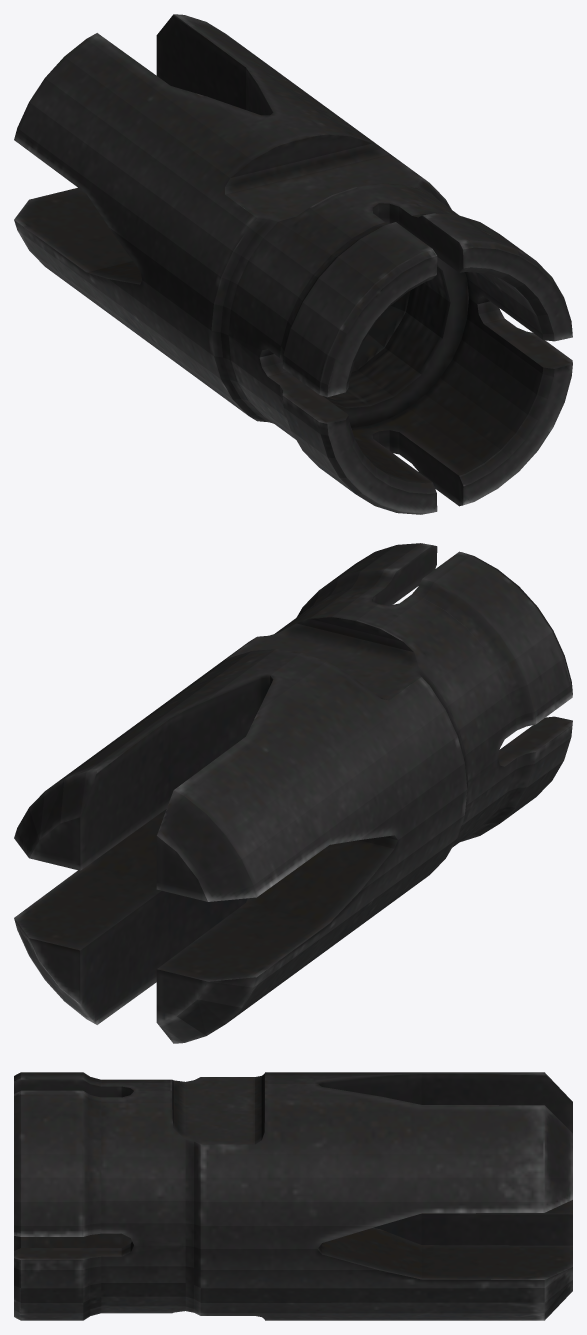
The picture shows the model from 3 angles, top to bottom: view 1: azimuth 30°, elevation 25°; view 2: azimuth 150°, elevation 25°; view 3: azimuth 270°, elevation 25°; orthographic projection. The views are drawn at different scales.
Parts seen in each view (by area): view 1: TW_622f0ee47762f55aaa68ac87_PZ_Import; view 2: TW_622f0ee47762f55aaa68ac87_PZ_Import; view 3: TW_622f0ee47762f55aaa68ac87_PZ_Import.
Boxes of the visible parts, x1,y1,x2,y2 form: TW_622f0ee47762f55aaa68ac87_PZ_Import: [14, 14, 572, 514]; TW_622f0ee47762f55aaa68ac87_PZ_Import: [14, 543, 572, 1043]; TW_622f0ee47762f55aaa68ac87_PZ_Import: [14, 1072, 572, 1320].
Bounding box in the file's own units: 0.0131 × 0.0293 × 0.013.
1 material, 1 textured.
